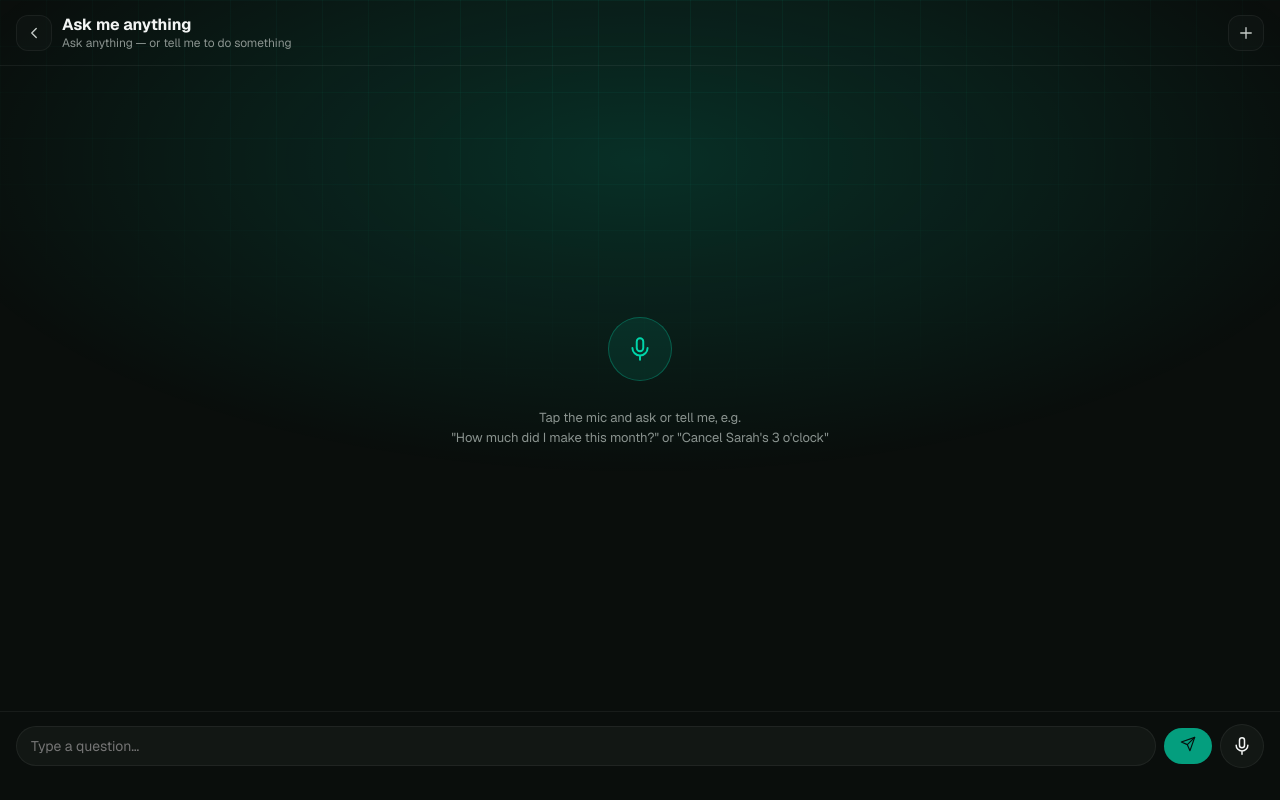
Scenario: VoiceAssistant page › adopts the returned conversation id after the first send
Type "how much" into the field with placeholder "Type a question…" at (586, 746), box [16,726,1156,766]
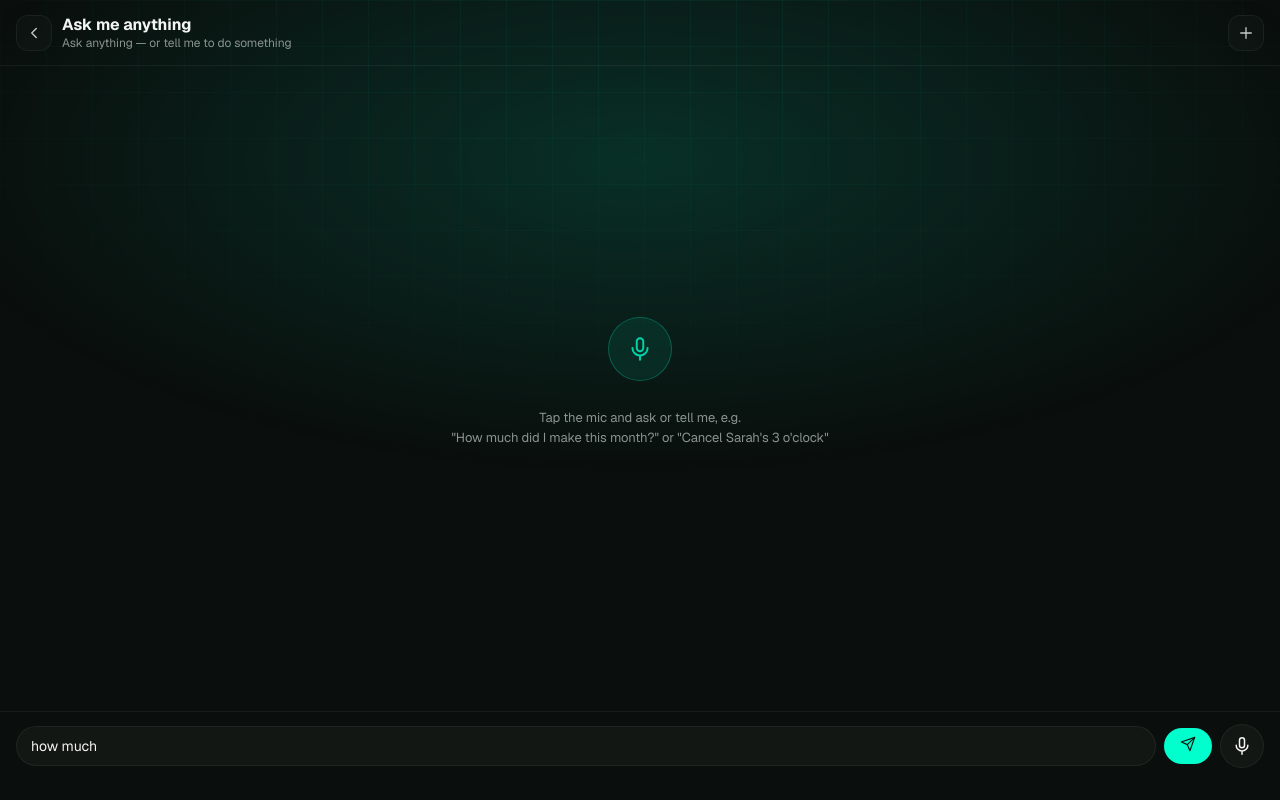
Click the button named "send" at (1188, 746), box [1164,728,1212,764]
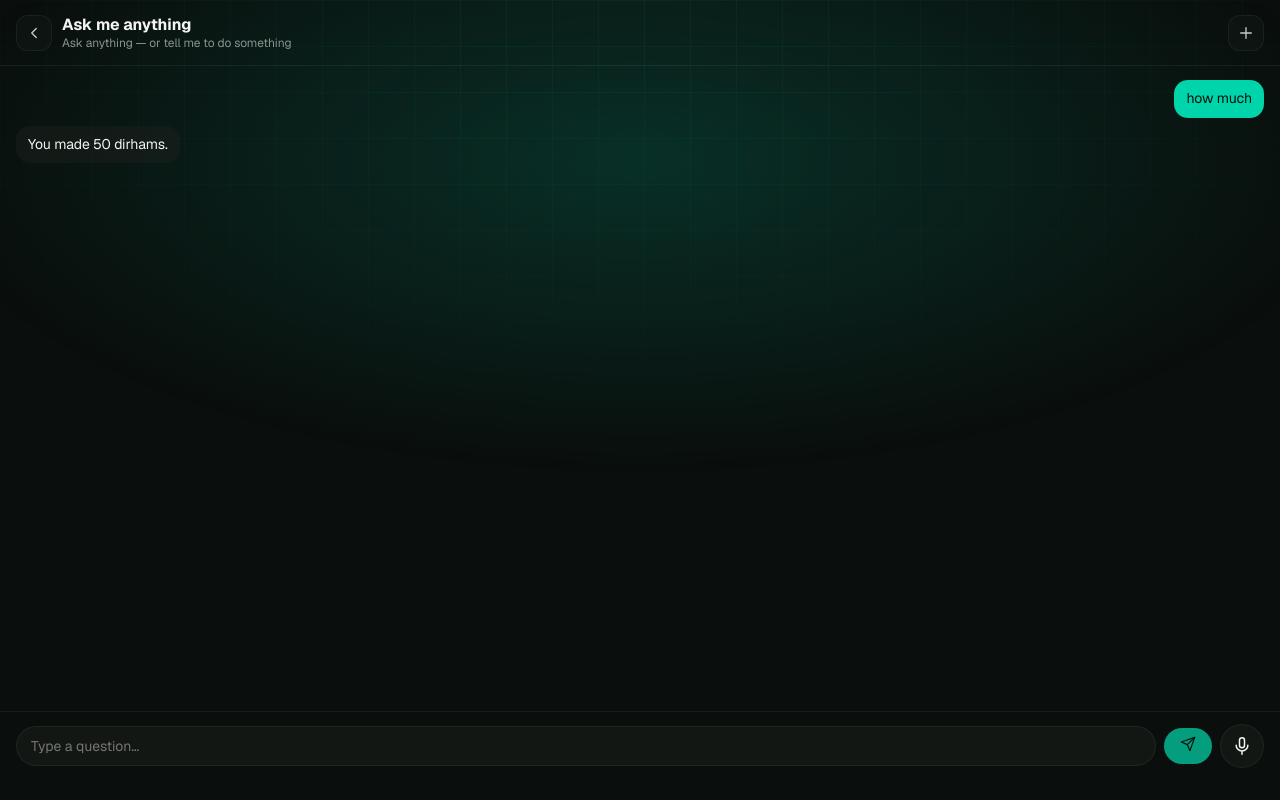
Check: the text "You made 50 dirhams." is shown, box [28,135,168,154]
